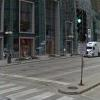Crosswalk: (5, 70, 72, 100)
